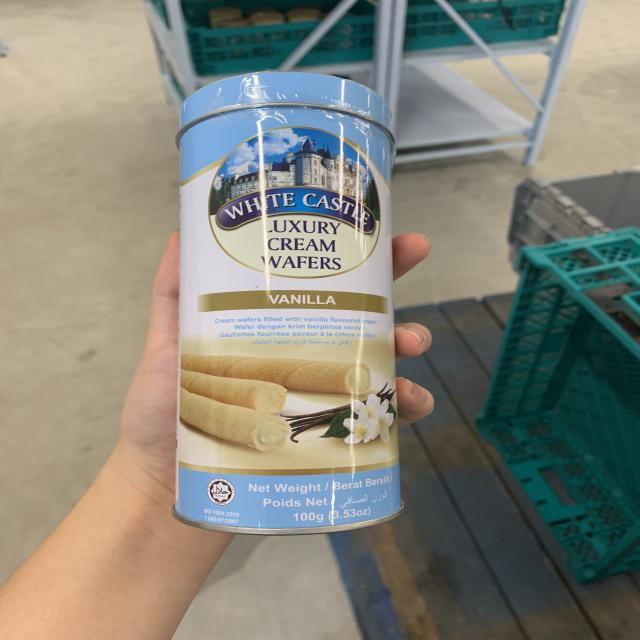object_name: (180, 92, 400, 527)
